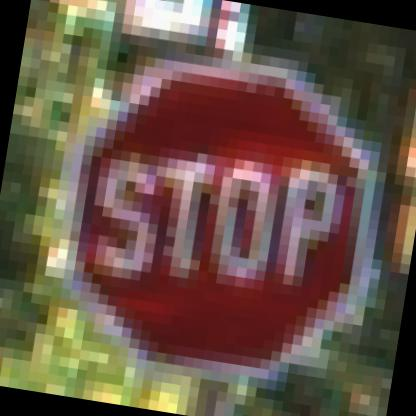stop: (20, 32, 412, 414)
